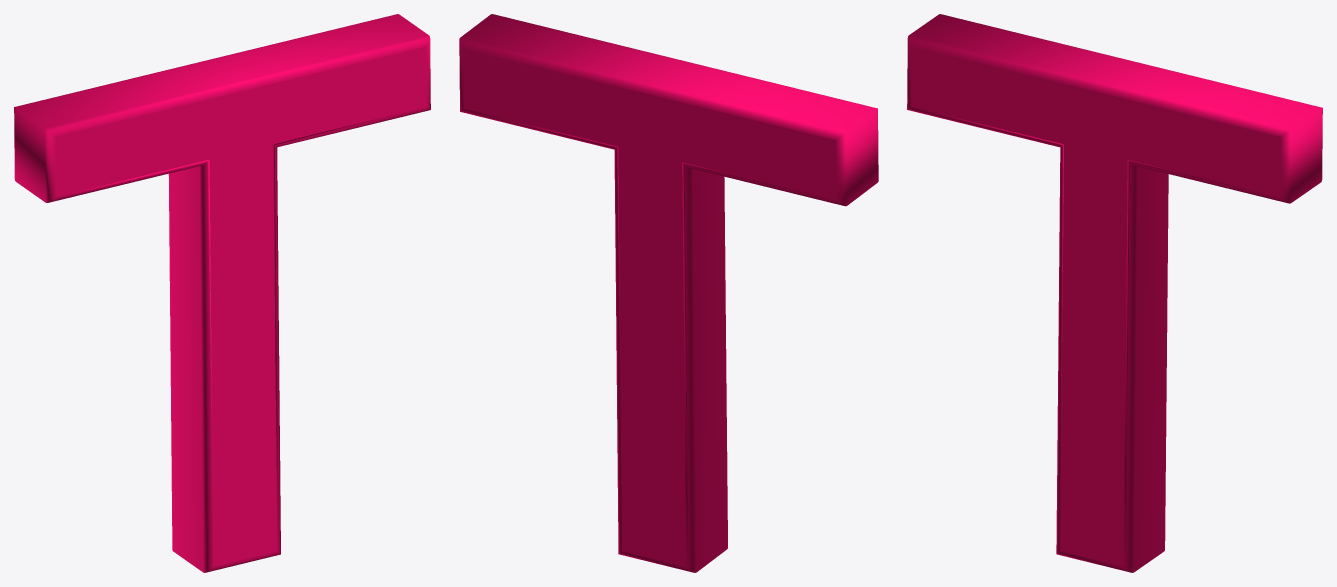
3 views of the same model, side by side, from view 1: azimuth 30°, elevation 25°; view 2: azimuth 150°, elevation 25°; view 3: azimuth 330°, elevation 25° (orthographic).
Parts seen in each view (by area): view 1: TT; view 2: TT; view 3: TT.
Boxes of the visible parts, left/top/right/bottom form: TT: left=14, top=14, right=430, bottom=572; TT: left=459, top=14, right=878, bottom=572; TT: left=907, top=14, right=1322, bottom=572.
Size of the model in its own units: 0.4196 by 0.5 by 0.0801.
